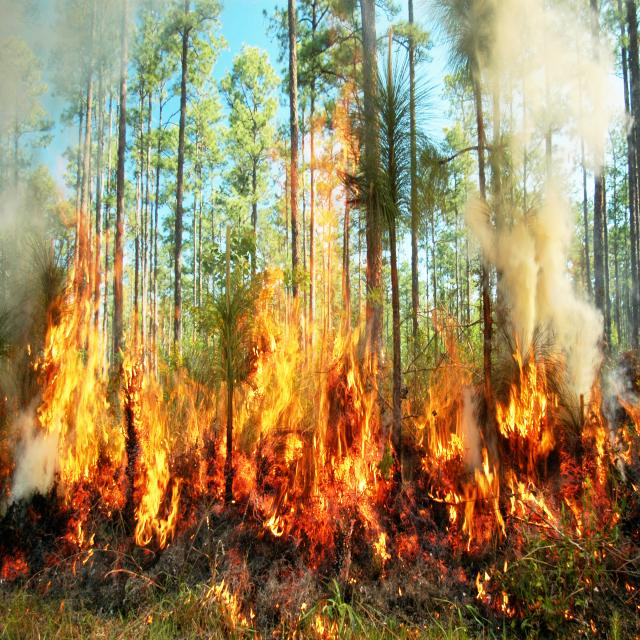api: (239, 277, 312, 538), (97, 343, 181, 538), (314, 116, 343, 552), (340, 329, 393, 556), (65, 240, 97, 523), (498, 375, 553, 530), (421, 377, 468, 518), (192, 381, 243, 508), (577, 369, 610, 498), (472, 441, 496, 529), (36, 359, 69, 415)
asap: (476, 188, 620, 374), (480, 4, 630, 168), (1, 1, 149, 131), (2, 148, 65, 356), (11, 423, 64, 503)
